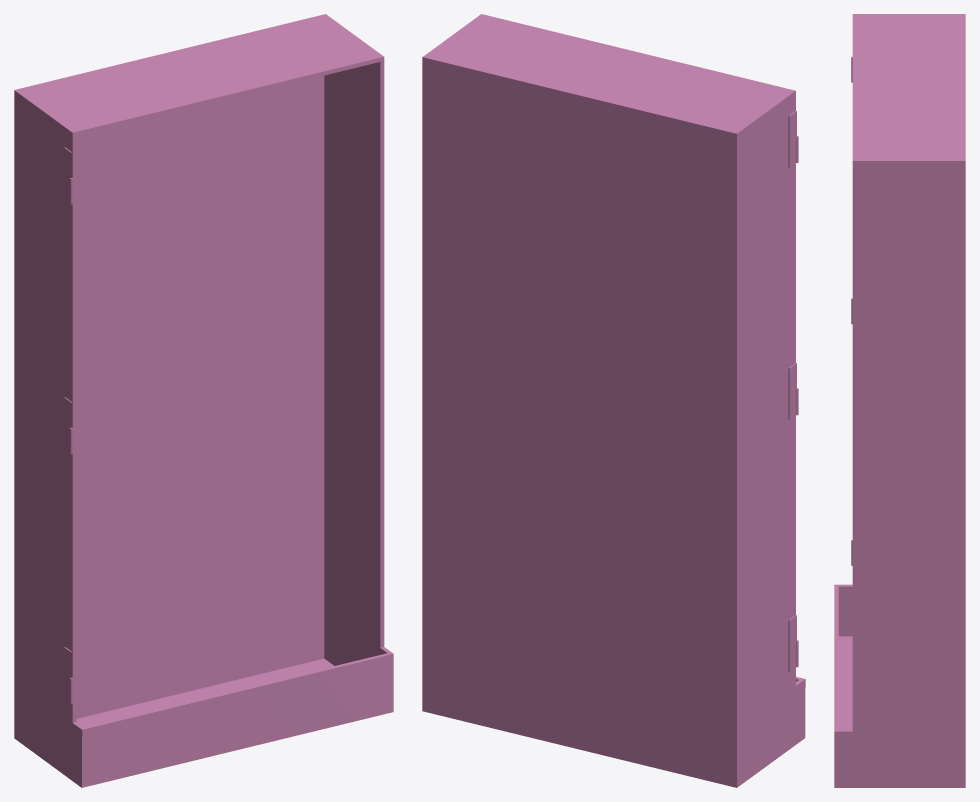
The picture shows the model from 3 angles, left to right: view 1: azimuth 30°, elevation 25°; view 2: azimuth 150°, elevation 25°; view 3: azimuth 270°, elevation 25°; orthographic projection. The views are drawn at different scales.
Parts seen in each view (by area): view 1: Box_LOD0; view 2: Box_LOD0; view 3: Box_LOD0.
Part boxes in pixels (<box>): Box_LOD0: <box>14,14,393,787</box>; Box_LOD0: <box>422,14,805,787</box>; Box_LOD0: <box>834,14,965,787</box>.
Size of what is drawn, in the model's own units: 0.8552 by 1.69 by 0.3208.
